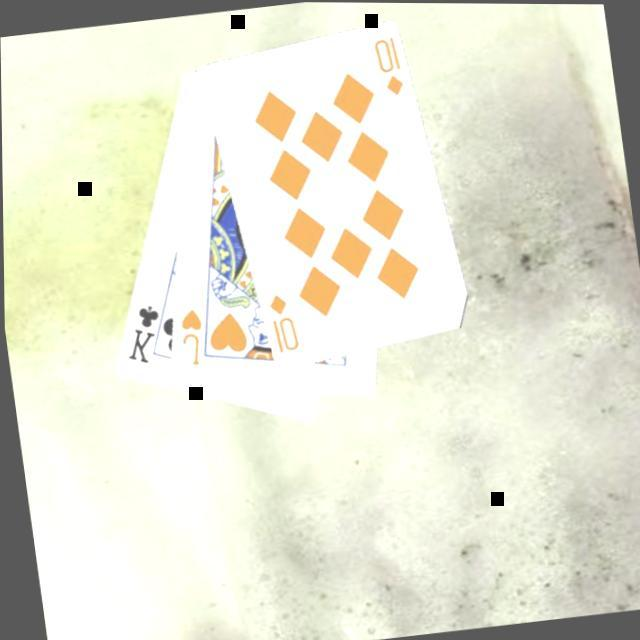10D: (366, 31, 405, 100), (260, 288, 299, 355)
JH: (170, 302, 208, 369)
KC: (113, 297, 173, 367)
